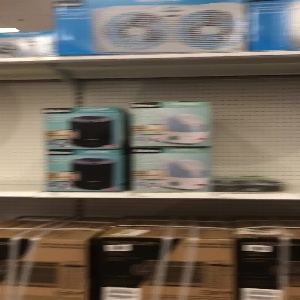void: (1, 64, 42, 191)
